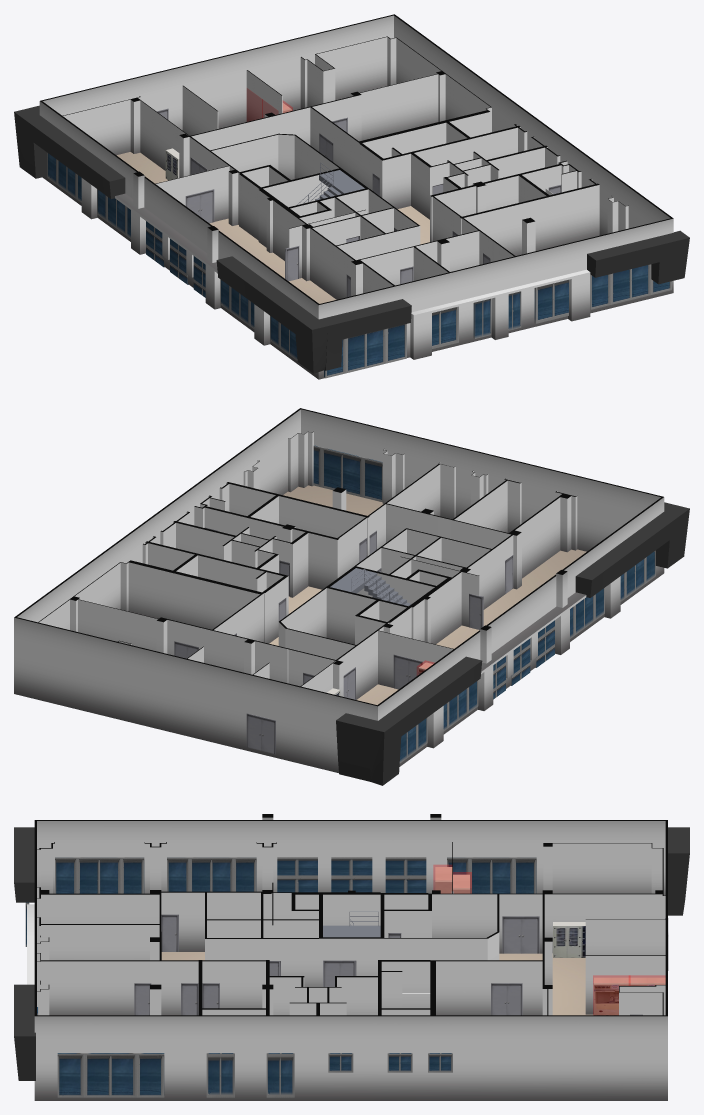
The model's file is soulbrain_T2-9-2F.glb.
3 renders of one model, top to bottom at view 1: azimuth 30°, elevation 25°; view 2: azimuth 150°, elevation 25°; view 3: azimuth 270°, elevation 25°, orthographic. The views are drawn at different scales.
Visible parts, largest first — view 1: T2-9-2F; view 2: T2-9-2F; view 3: T2-9-2F, Box2272, equipment-T2-9-2F-002, Box2275, equipment-T2-9-2F-004, Box2273.
Part boxes in pixels (x1,y1,x2,y2): T2-9-2F: [14, 14, 689, 379]; T2-9-2F: [14, 408, 689, 785]; T2-9-2F: [14, 814, 689, 1100]; Box2272: [553, 922, 585, 957]; equipment-T2-9-2F-002: [593, 975, 630, 1014]; Box2275: [594, 977, 629, 1015]; equipment-T2-9-2F-004: [433, 865, 451, 893]; Box2273: [435, 867, 452, 893].
Bounding box in the file's own units: 26.5 × 5.21 × 36.2.
Materials: 13 (10 with a texture image).
